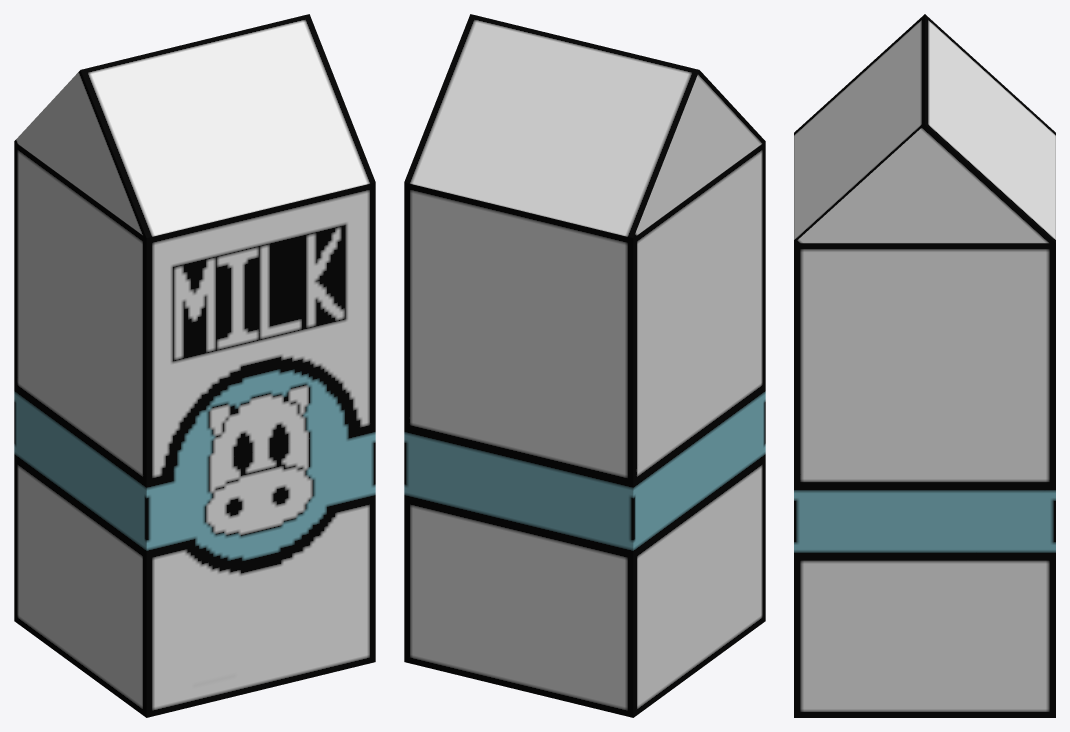
The model's file is malk.obj.
3 views of the same model, side by side, from view 1: azimuth 30°, elevation 25°; view 2: azimuth 150°, elevation 25°; view 3: azimuth 270°, elevation 25° (orthographic).
Visible parts, largest first — view 1: Default; view 2: Default; view 3: Default.
Boxes of the visible parts, <box> form: Default: <box>14,14,375,717</box>; Default: <box>404,14,765,717</box>; Default: <box>794,14,1055,717</box>.
Size of the model in its own units: 4 by 10 by 4.
1 material, 1 textured.
